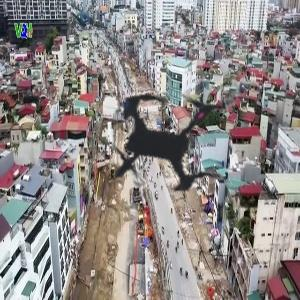drone: (34, 18, 296, 280)
